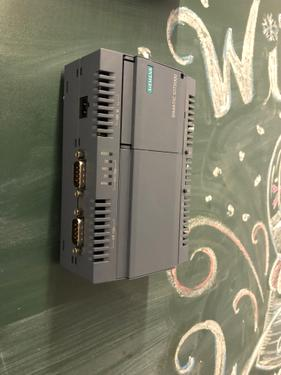device: (59, 48, 195, 284)
